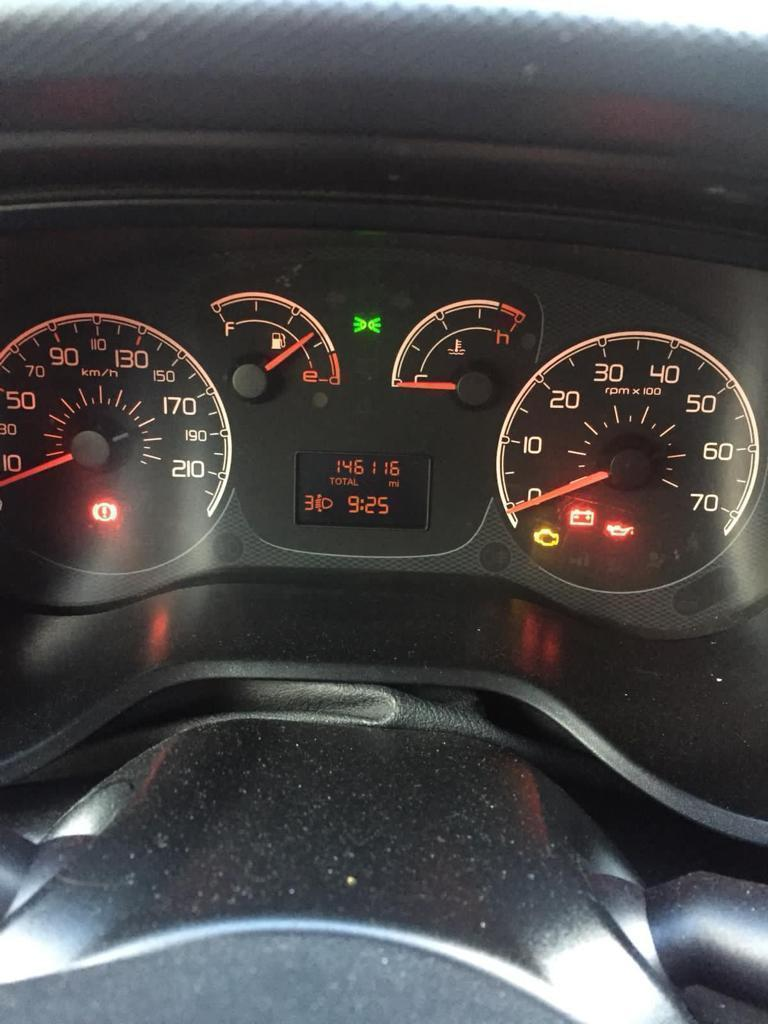1: (369, 459, 378, 475), (334, 458, 342, 473), (381, 460, 389, 475)
2: (364, 495, 376, 514)
3: (302, 493, 314, 511)
4: (342, 459, 353, 473)
5: (376, 496, 389, 514)
6: (353, 458, 365, 475), (389, 460, 400, 476)
9: (346, 494, 359, 513)
X: (388, 479, 396, 487), (335, 476, 342, 485), (359, 498, 364, 510), (347, 476, 353, 486), (328, 476, 334, 485), (353, 477, 359, 486), (342, 476, 347, 485), (397, 479, 399, 488)
odometer: (291, 449, 434, 532)
